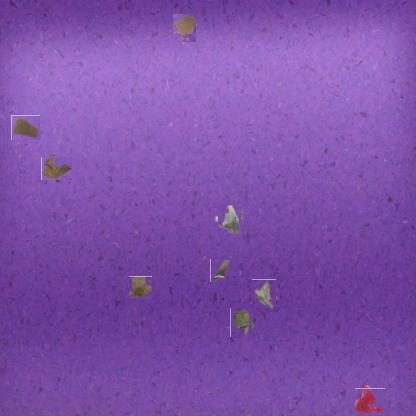dirty: (43, 155, 71, 182), (251, 281, 278, 309), (11, 115, 40, 140), (216, 206, 242, 232), (228, 310, 254, 335), (128, 276, 152, 299), (210, 258, 231, 282)
liquid: (357, 387, 384, 414), (172, 15, 198, 41)
